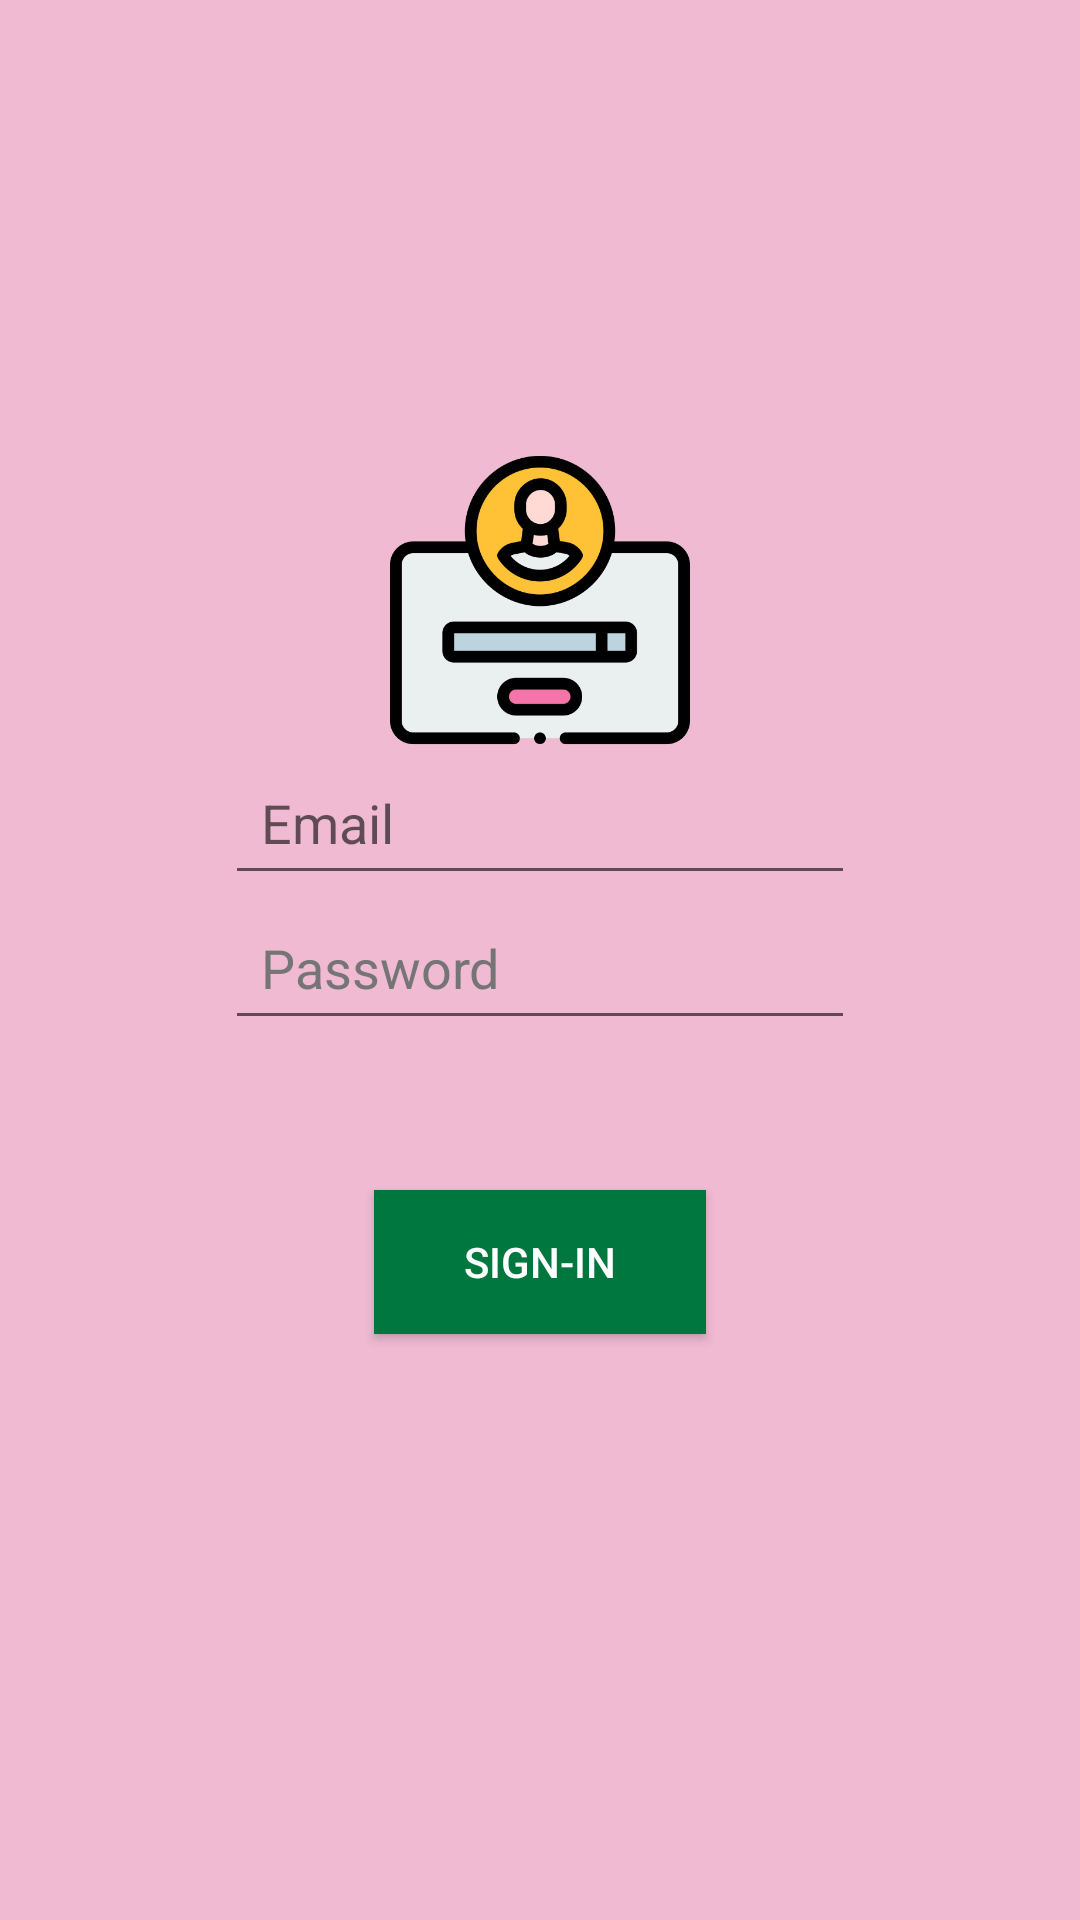

Named icons in this screenshot (1080px×1920px) and their centers, point (x, y):
Sign-in: point (540, 600)
